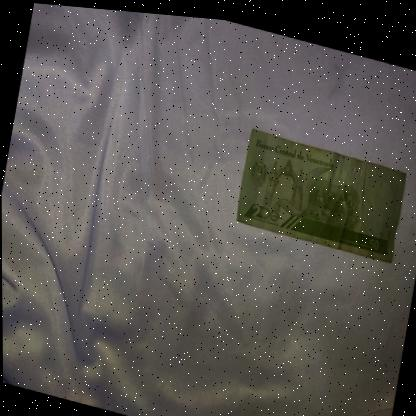fifty-back-vef: (233, 121, 410, 258)
